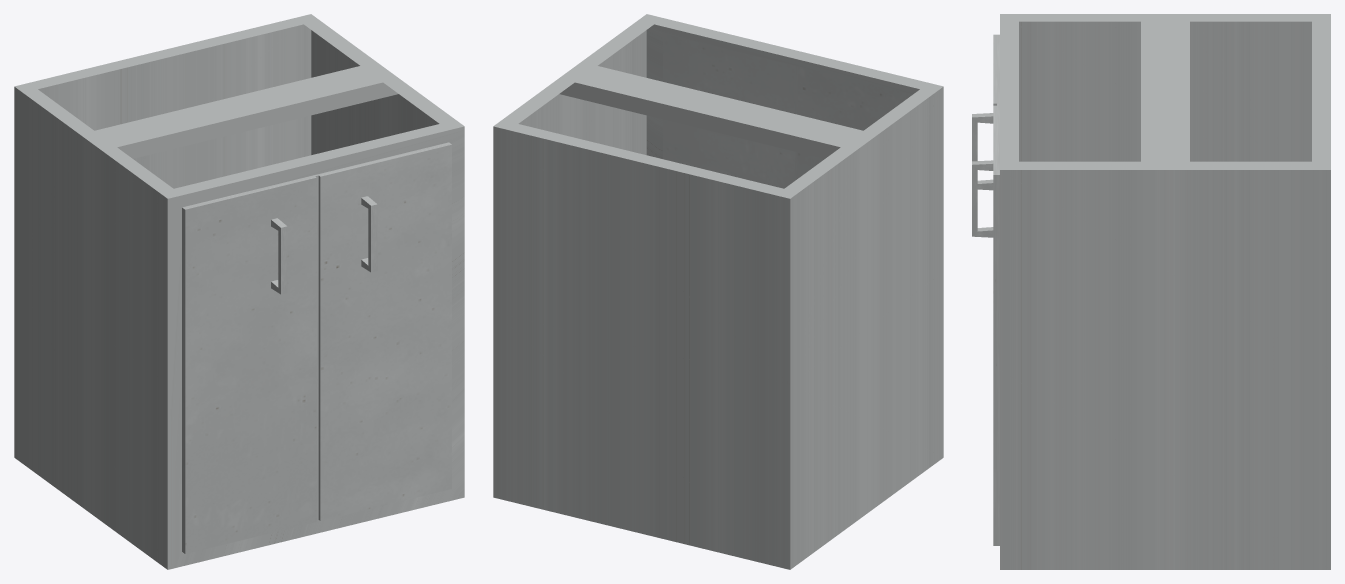
File: GabinetePuertas.glb
3 renders of one model, left to right at view 1: azimuth 30°, elevation 25°; view 2: azimuth 150°, elevation 25°; view 3: azimuth 270°, elevation 25°, orthographic. The views are drawn at different scales.
Parts seen in each view (by area): view 1: Plane; view 2: Plane; view 3: Plane.
Boxes of the visible parts, x1,y1,x2,y2 form: Plane: (14,14,464,569); Plane: (493,14,943,569); Plane: (972,14,1330,569).
Size of the model in its own units: 2.01 by 2.4 by 1.95.
Materials: 1 (1 with a texture image).
